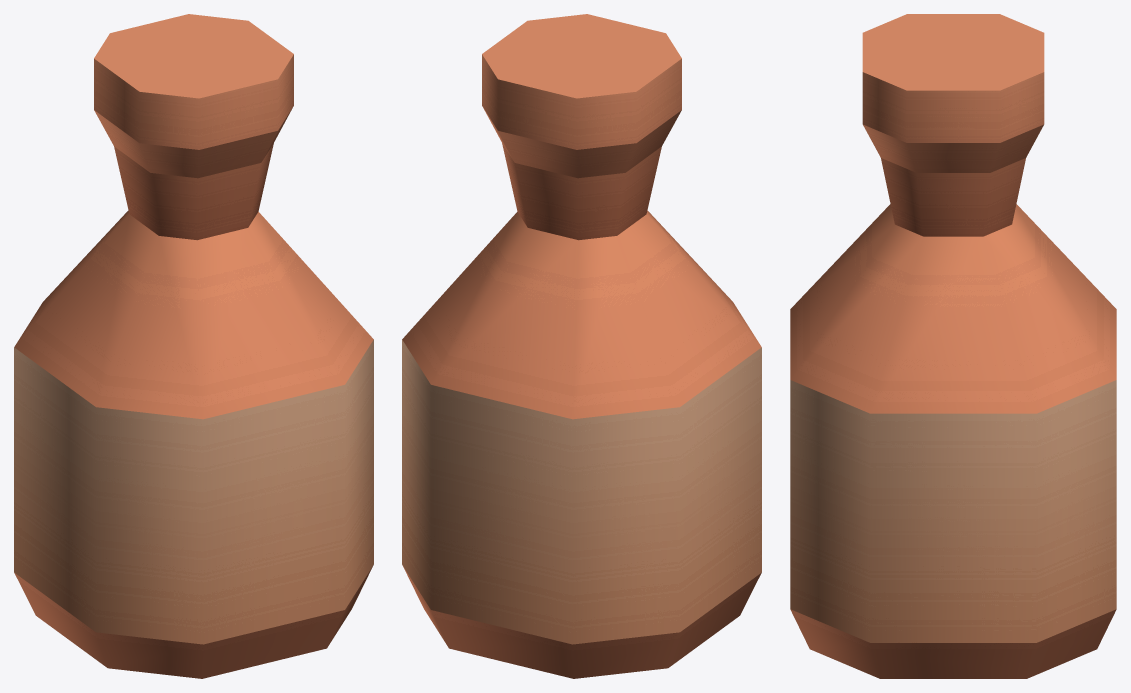
Rendered from bottle-large.glb.
3 renders of one model, left to right at view 1: azimuth 30°, elevation 25°; view 2: azimuth 150°, elevation 25°; view 3: azimuth 270°, elevation 25°, orthographic.
Parts seen in each view (by area): view 1: bottle-large; view 2: bottle-large; view 3: bottle-large.
Boxes of the visible parts, <box> form: bottle-large: <box>14,14,373,678</box>; bottle-large: <box>402,14,761,678</box>; bottle-large: <box>790,14,1116,678</box>.
Size of the model in its own units: 0.4658 by 0.8905 by 0.4658.
Materials: 1 (1 with a texture image).
